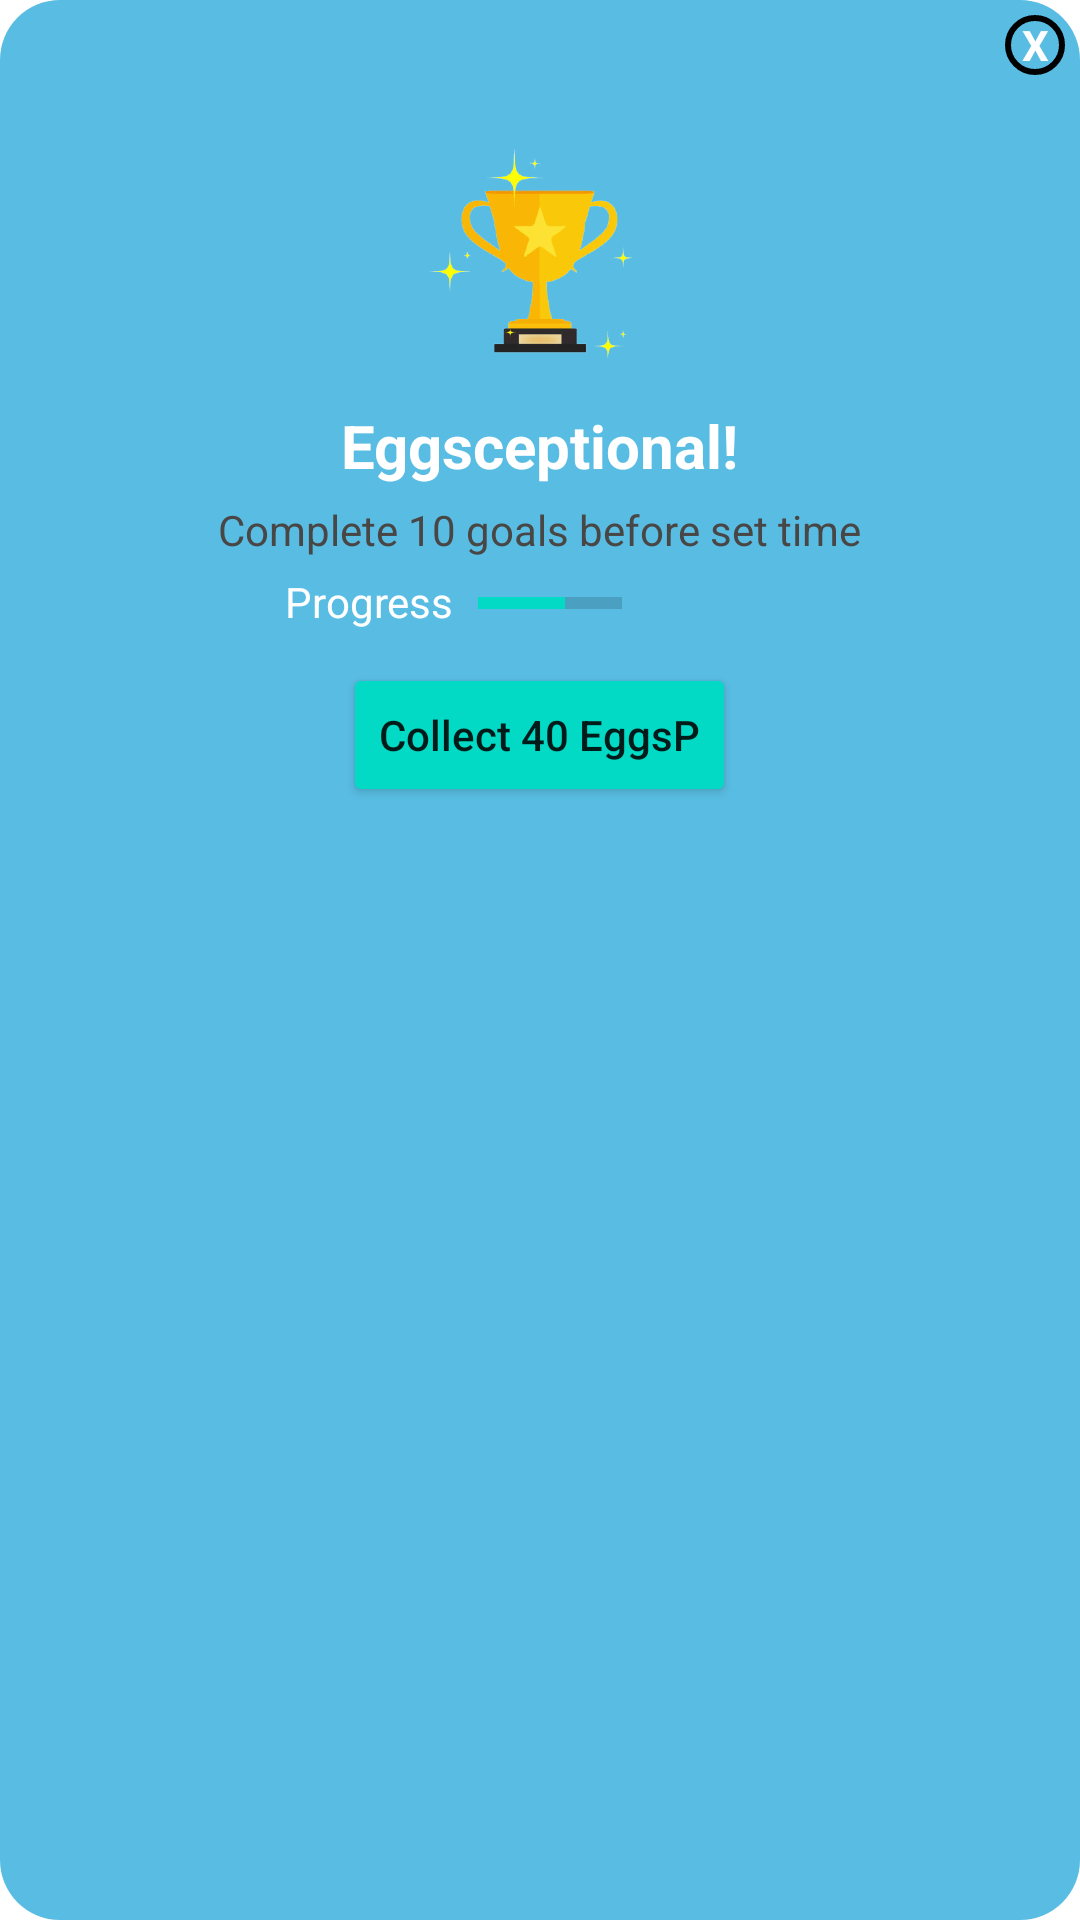

Icons on this 1080px×1920px Android screen, each with the point to tap as (x=x, y=y):
trophy: (x=531, y=254)
